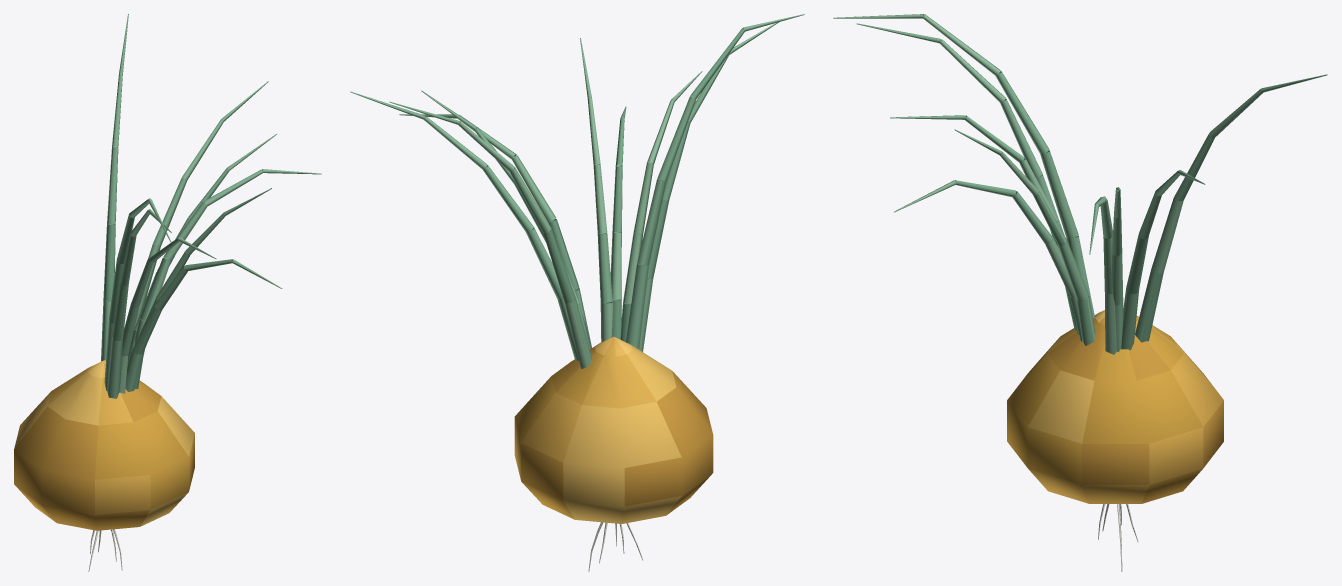
Rendered from oignon_jaune_mur.glb.
3 renders of one model, left to right at view 1: azimuth 30°, elevation 25°; view 2: azimuth 150°, elevation 25°; view 3: azimuth 270°, elevation 25°, orthographic. The views are drawn at different scales.
Visible parts, largest first — view 1: Oignon_Bulbe, Oignon_Feuilles; view 2: Oignon_Bulbe, Oignon_Feuilles; view 3: Oignon_Bulbe, Oignon_Feuilles.
Boxes of the visible parts, <box> form: Oignon_Bulbe: <box>14,360,194,530</box>; Oignon_Feuilles: <box>101,14,321,398</box>; Oignon_Bulbe: <box>514,336,713,523</box>; Oignon_Feuilles: <box>350,14,804,368</box>; Oignon_Bulbe: <box>1007,310,1223,503</box>; Oignon_Feuilles: <box>833,14,1327,354</box>.
Bounding box in the file's own units: 0.3027 × 0.4809 × 0.3909.
